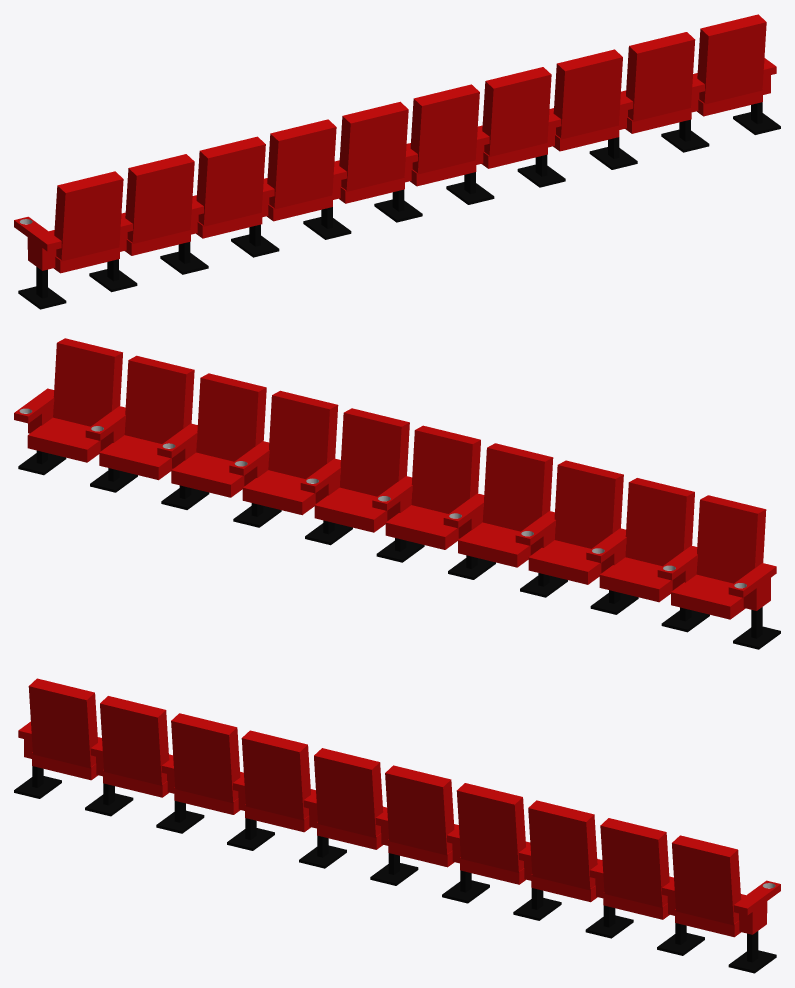
Rendered from stoelHeel.obj.
3 renders of one model, top to bottom at view 1: azimuth 30°, elevation 25°; view 2: azimuth 150°, elevation 25°; view 3: azimuth 330°, elevation 25°, orthographic.
Visible parts, largest first — view 1: Cube.025, Cube.061, Cube.044, Cube.032, Cube.049, Cube.016, Cube.037, Cube.056, Cube.020, Cube.007, Cube.059, Cube.047 (+21 smaller); view 2: Cube.020, Cube.044, Cube.016, Cube.025, Cube.032, Cube.007, Cube.056, Cube.037, Cube.061, Cube.049, Cube.022, Cube.019 (+31 smaller); view 3: Cube.032, Cube.049, Cube.044, Cube.007, Cube.020, Cube.061, Cube.037, Cube.016, Cube.056, Cube.025, Cube.019, Cube.022 (+21 smaller).
Boxes of the visible parts, <box> form: Cube.025: <box>482,67,551,156</box>; Cube.061: <box>54,171,123,261</box>; Cube.044: <box>267,119,336,209</box>; Cube.032: <box>410,84,479,174</box>; Cube.049: <box>196,136,265,226</box>; Cube.016: <box>697,14,766,104</box>; Cube.037: <box>339,101,408,191</box>; Cube.056: <box>125,154,194,243</box>; Cube.020: <box>553,49,622,139</box>; Cube.007: <box>626,32,695,121</box>; Cube.059: <box>27,230,119,273</box>; Cube.047: <box>192,195,262,238</box>; Cube.020: <box>196,373,266,461</box>; Cube.044: <box>482,443,553,531</box>; Cube.016: <box>53,338,122,426</box>; Cube.025: <box>268,390,338,479</box>; Cube.032: <box>339,408,409,496</box>; Cube.007: <box>124,355,194,443</box>; Cube.056: <box>625,478,694,566</box>; Cube.037: <box>411,425,480,513</box>; Cube.061: <box>696,495,766,583</box>; Cube.049: <box>554,460,623,548</box>; Cube.022: <box>171,452,244,497</box>; Cube.019: <box>27,417,100,462</box>; Cube.032: <box>385,765,454,855</box>; Cube.049: <box>171,713,240,803</box>; Cube.044: <box>241,730,310,820</box>; Cube.007: <box>600,818,669,907</box>; Cube.020: <box>528,800,597,890</box>; Cube.061: <box>28,678,97,768</box>; Cube.037: <box>314,748,383,837</box>; Cube.016: <box>672,835,741,925</box>; Cube.056: <box>100,696,169,785</box>; Cube.025: <box>456,783,525,872</box>; Cube.019: <box>675,894,767,937</box>; Cube.022: <box>531,859,602,902</box>.
Bounding box in the file's own units: 29.74 × 4.49 × 2.59.
